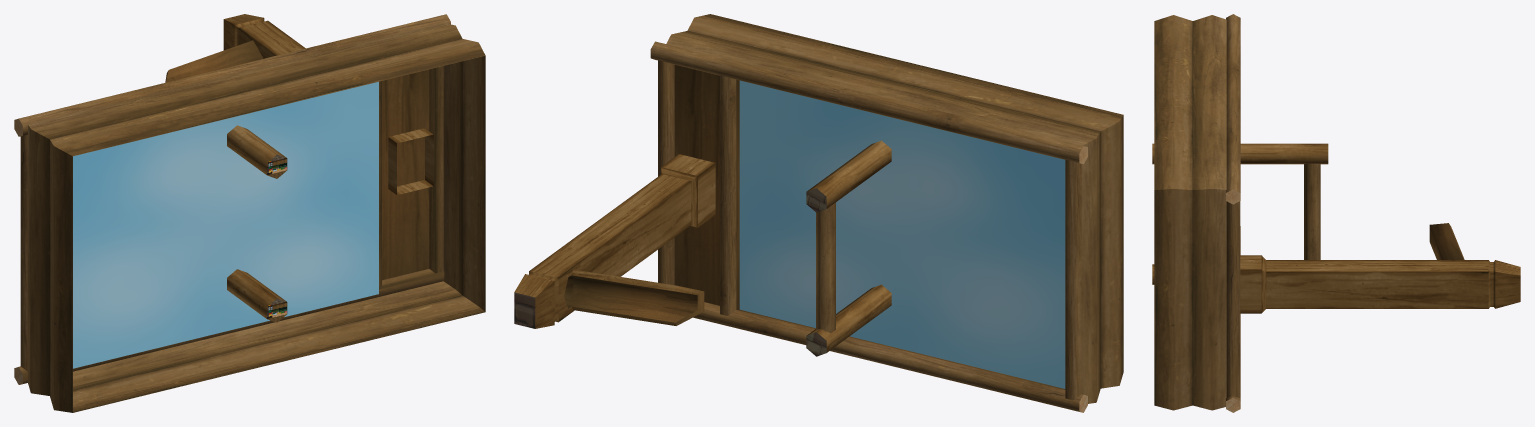
Rendered from Water_Mill_Pond.fbx.
3 views of the same model, side by side, from view 1: azimuth 30°, elevation 25°; view 2: azimuth 150°, elevation 25°; view 3: azimuth 270°, elevation 25° (orthographic). The views are drawn at different scales.
Visible parts, largest first — view 1: Water_Mill_Pond; view 2: Water_Mill_Pond; view 3: Water_Mill_Pond.
Boxes of the visible parts, x1=… form: Water_Mill_Pond: x1=14, y1=14, x2=485, y2=412; Water_Mill_Pond: x1=514, y1=14, x2=1123, y2=412; Water_Mill_Pond: x1=1152, y1=14, x2=1520, y2=412.
Size of the model in its own units: 88.2 by 52.46 by 78.29.
